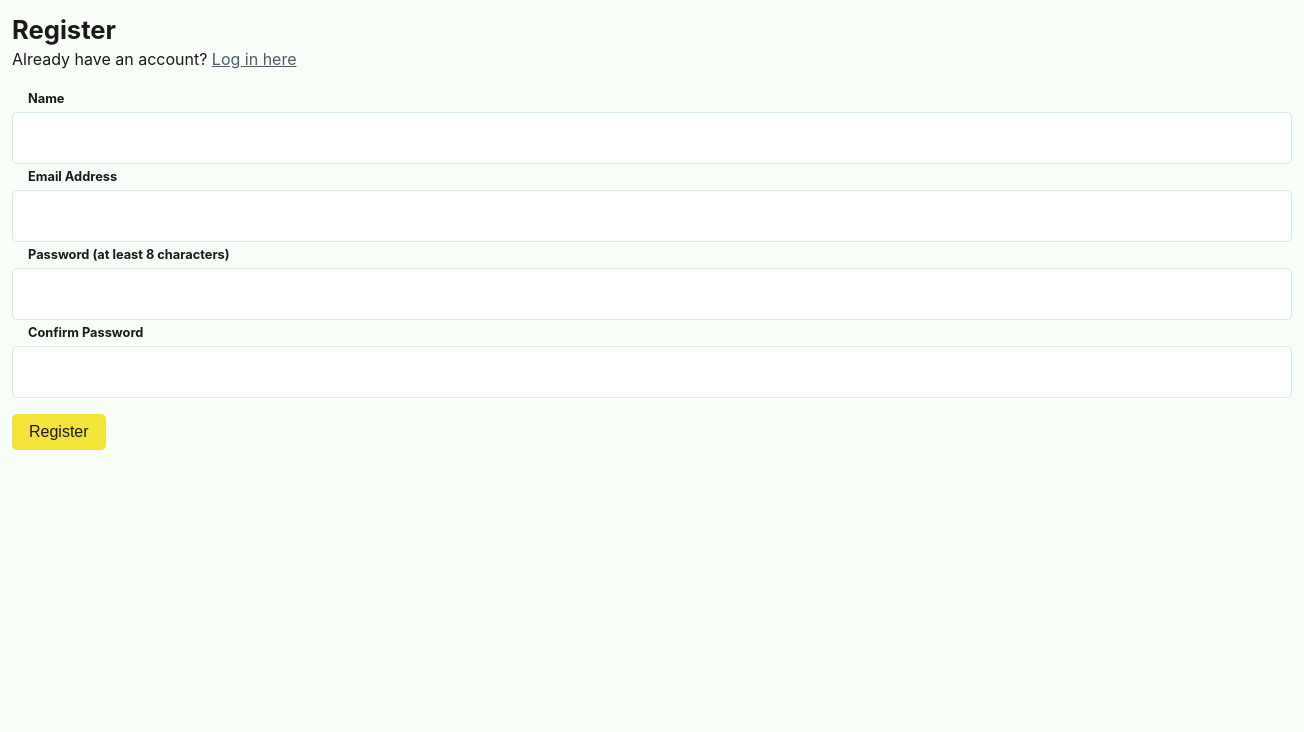
it: Register form › displays field errors
The width and height of the screenshot is (1304, 732).
Step 1. Click the button "Register" → click(59, 432), box [12,414,106,450]
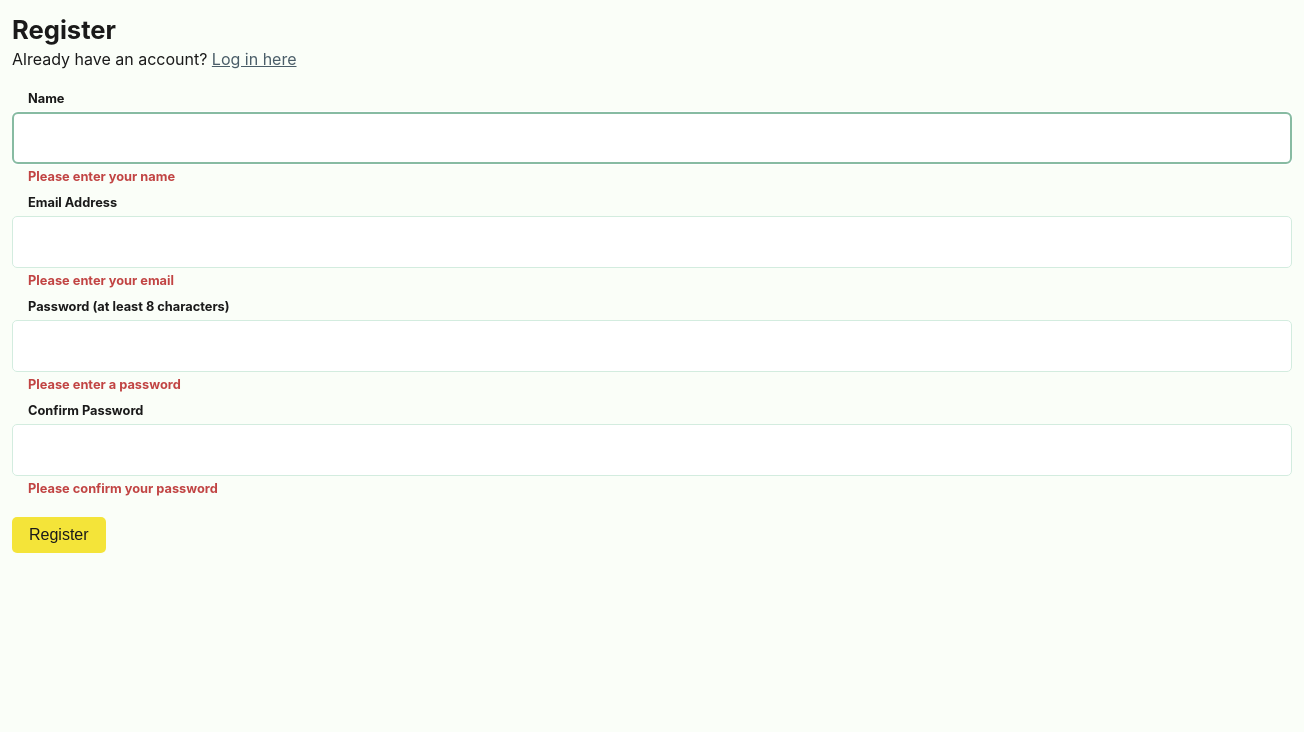
Expected: the text "Please enter your name" is shown, [28,169,175,184]
Expected: the text "Please enter your email" is shown, [28,273,174,288]
Expected: the text "Please enter a password" is shown, [28,377,181,392]
Step 2. Type "Test Test" into the field labelled "Name" → (652, 138), box [12,112,1292,164]
Step 3. Type "test@test.com" into the field labelled "Email Address" → (652, 242), box [12,216,1292,268]
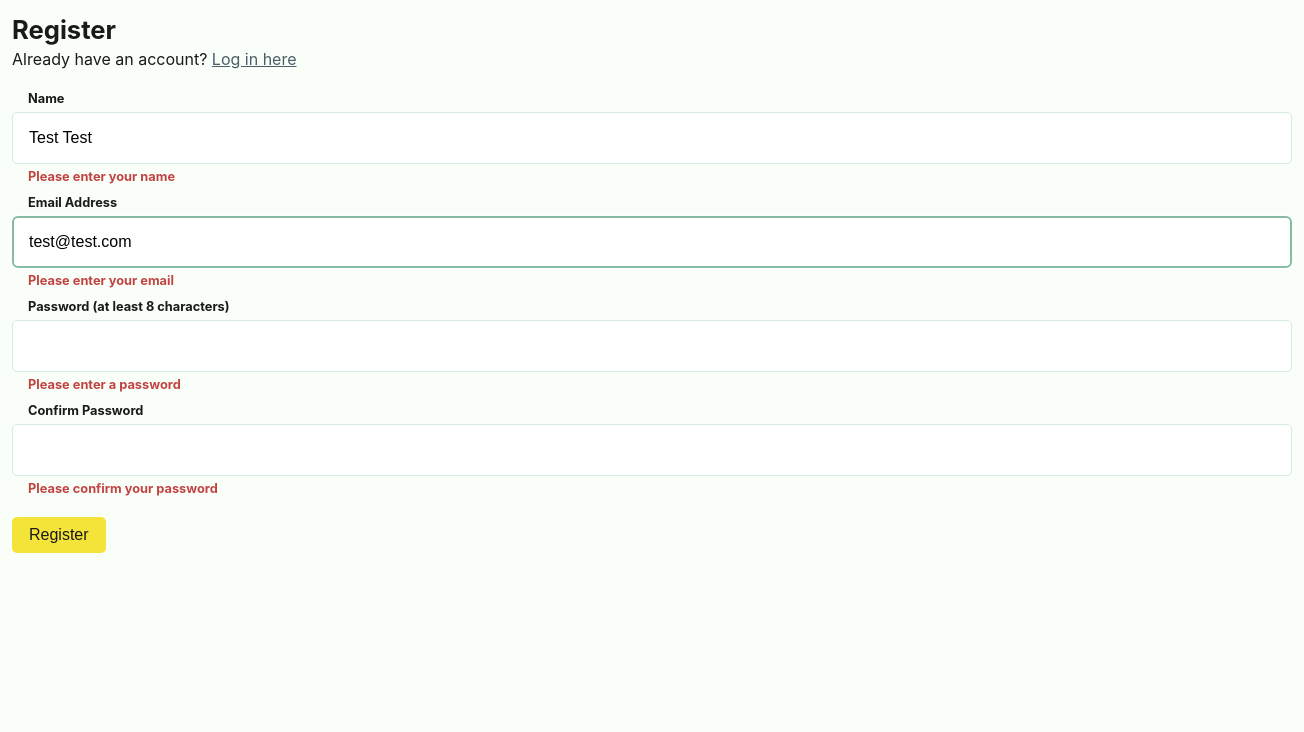
Step 4. Type "2short" into the password field labelled "Password (at least 8 characters)" → (652, 346), box [12,320,1292,372]
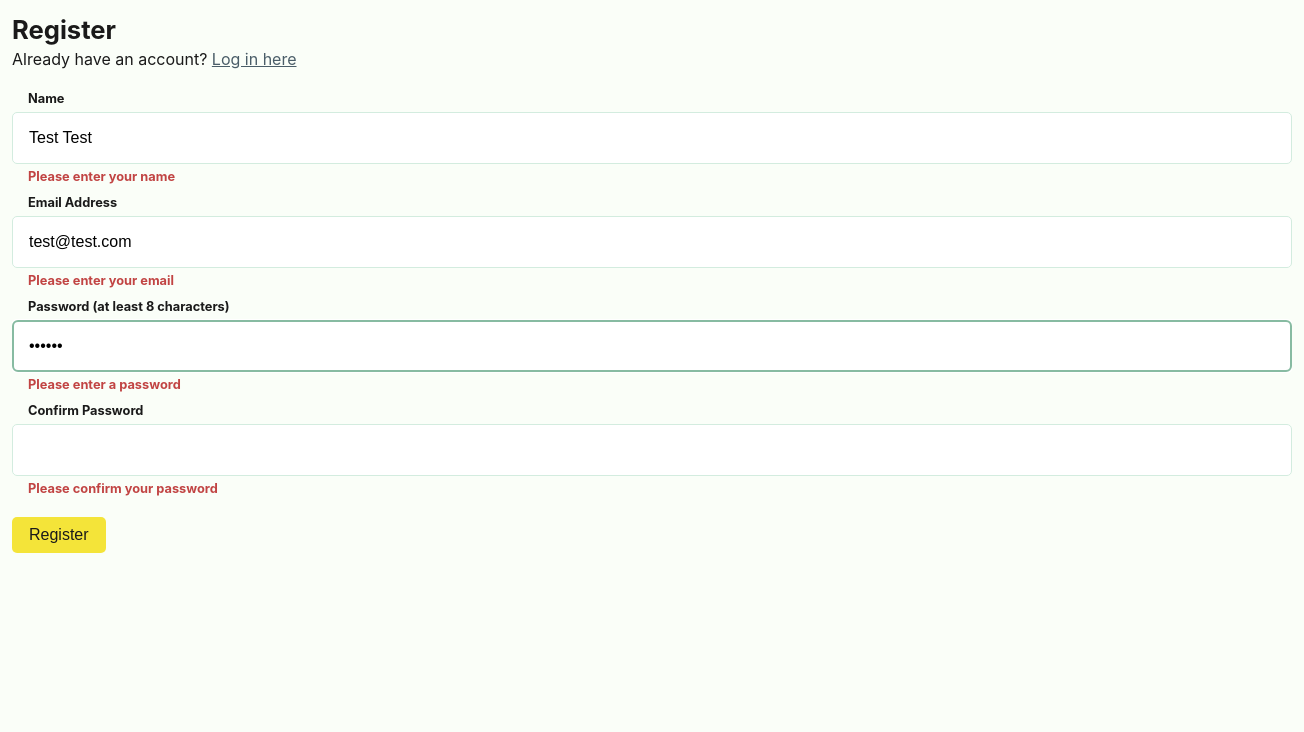
Step 5. Type "notthesame" into the password field labelled "Confirm Password" → (652, 450), box [12,424,1292,476]
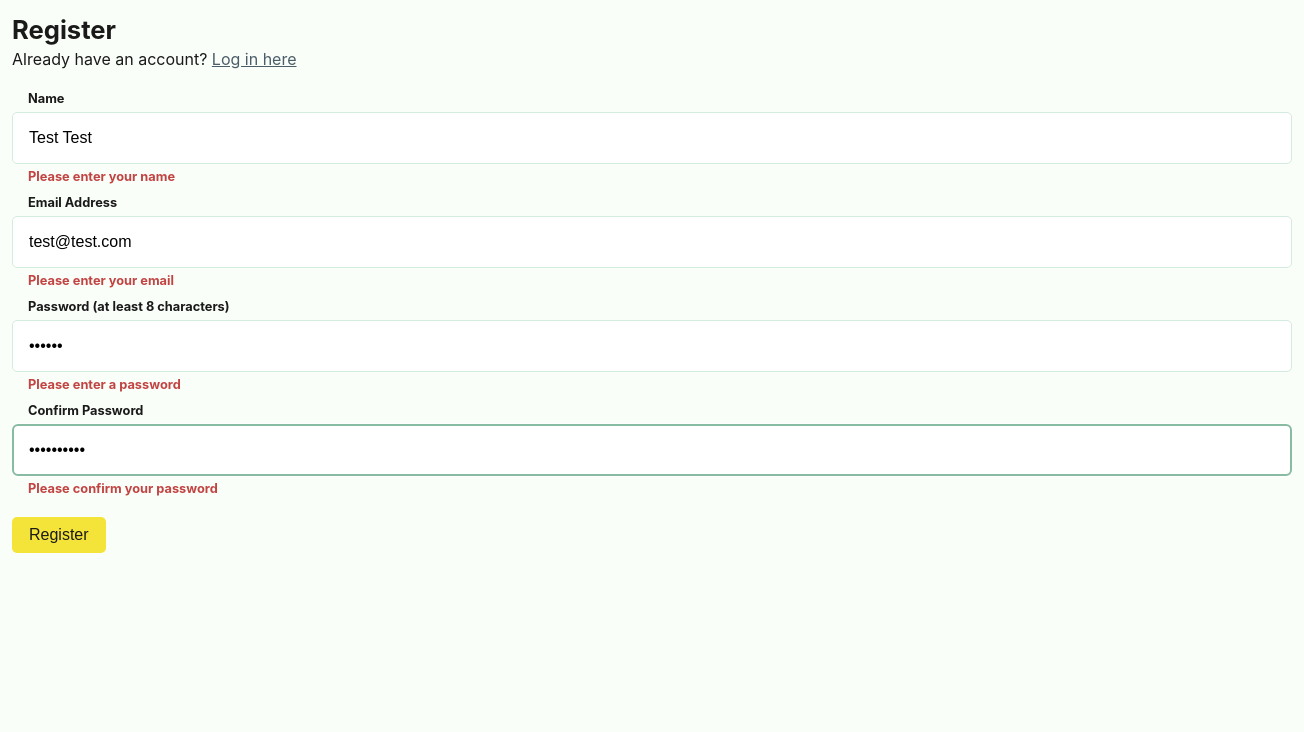
Step 6. Click the button "Register" → click(59, 536), box [12,518,106,554]
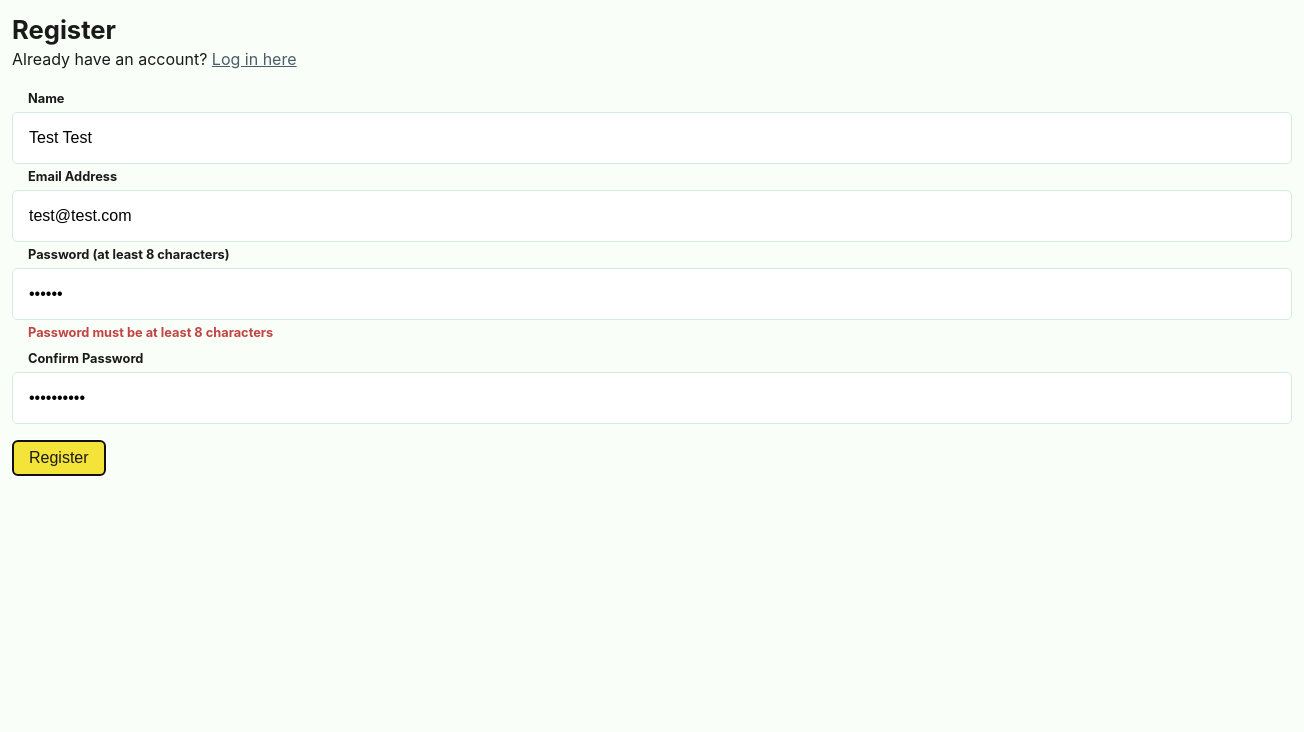
Expected: the text "Password must be at least 8 characters" is shown, [28,325,273,340]
Step 7. Type "LongEnoughPassword" into the password field labelled "Password (at least 8 characters)" → (652, 294), box [12,268,1292,320]
Step 8. Click the button "Register" → click(59, 458), box [12,440,106,476]
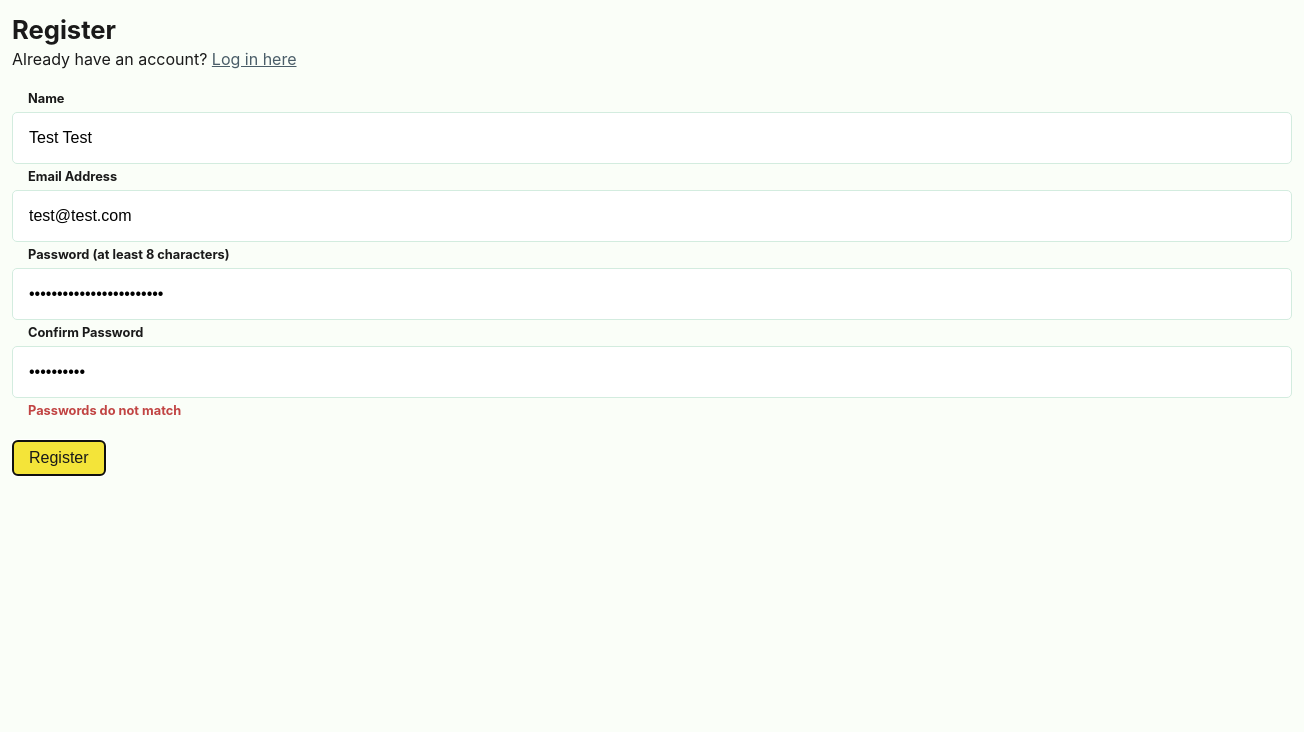
Expected: the text "Passwords do not match" is shown, [28,403,181,418]
